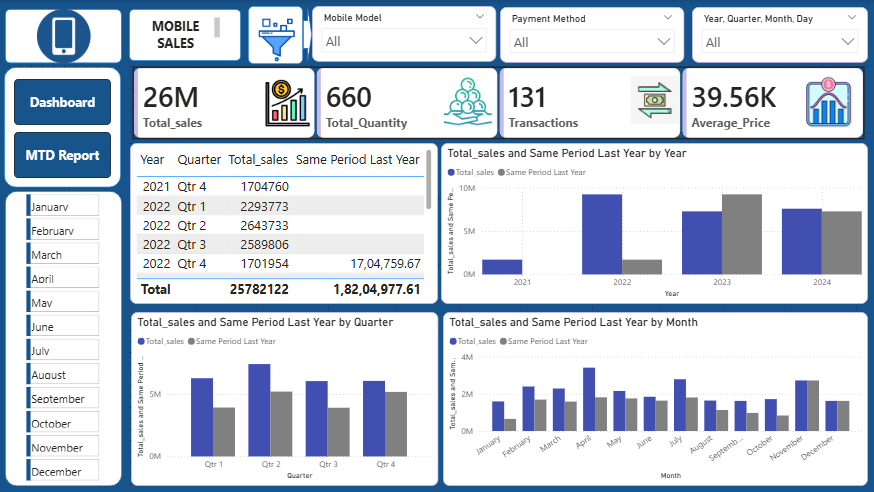

The page's visual inventory and layout, read from the dashboard file:
{"tool":"powerbi","page":{"name":"Same Period Last Year","canvas":[1280,720],"ordinal":2},"visuals":[{"type":"shape","box":[10.1,13.4,169.7,79],"z":0},{"type":"image","box":[11.8,13.4,168,79],"z":1000},{"type":"shape","box":[8.4,97.7,170.1,175.2],"z":2000},{"type":"slicer","fields":{"Values":["Mobile sales Data.Mobile Model"]},"box":[456.7,8.7,267.6,81.5],"z":3000},{"type":"shape","box":[363.6,8.7,80,84.4],"z":4000},{"type":"slicer","fields":{"Values":["Mobile sales Data.Payment Method"]},"box":[730.2,10.2,267.6,81.5],"z":5000},{"type":"cardVisual","fields":{"Data":["Mobile sales Data.Total_sales","Mobile sales Data.Total_Quantity","Mobile sales Data.Transactions","Mobile sales Data.Average_Price"]},"box":[190.3,90.9,1076.2,116.2],"z":6000},{"type":"slicer","fields":{"Values":["Custom Calender.Date.Variation.Date Hierarchy.Year","Custom Calender.Date.Variation.Date Hierarchy.Quarter","Custom Calender.Date.Variation.Date Hierarchy.Month","Custom Calender.Date.Variation.Date Hierarchy.Day"]},"box":[1009.5,10.2,256,81.5],"z":7000},{"type":"image","box":[375.3,114.9,91.6,69.8],"z":8000},{"type":"image","box":[353.5,26.2,103.3,64],"z":9000},{"type":"image","box":[913.5,110.5,84.4,69.8],"z":10000},{"type":"image","box":[1163.6,110.5,90.2,77.1],"z":11000},{"type":"image","box":[644.4,110.5,78.5,74.2],"z":12000},{"type":"shape","box":[443.6,8.7,13.1,82.9],"z":13000},{"type":"shape","box":[190.5,13.1,162.9,75.6],"z":14000},{"type":"textbox","box":[203.6,20.4,123.6,64],"z":15000},{"type":"shape","box":[9.9,277.8,170.1,429.4],"z":16000},{"type":"advancedSlicerVisual","fields":{"Values":["Custom Calender.Date.Variation.Date Hierarchy.Month"]},"box":[36.9,277.8,116.2,429.4],"z":17000},{"type":"tableEx","fields":{"Values":["Custom Calender.Date.Variation.Date Hierarchy.Year","Custom Calender.Date.Variation.Date Hierarchy.Quarter","Mobile sales Data.Total_sales","Mobile sales Data.Same Period Last Year"]},"box":[192,208,448,234.2],"z":18000},{"type":"clusteredColumnChart","fields":{"Category":["Custom Calender.Date.Variation.Date Hierarchy.Year","Custom Calender.Date.Variation.Date Hierarchy.Quarter"],"Y":["Mobile sales Data.Total_sales","Mobile sales Data.Same Period Last Year"]},"box":[644.4,208,621.1,234.2],"z":19000},{"type":"clusteredColumnChart","fields":{"Category":["Custom Calender.Date.Variation.Date Hierarchy.Year","Custom Calender.Date.Variation.Date Hierarchy.Quarter"],"Y":["Mobile sales Data.Total_sales","Mobile sales Data.Same Period Last Year"]},"box":[193.5,453.8,446.5,253.1],"z":20000},{"type":"clusteredColumnChart","fields":{"Category":["Custom Calender.Date.Variation.Date Hierarchy.Year","Custom Calender.Date.Variation.Date Hierarchy.Quarter","Custom Calender.Date.Variation.Date Hierarchy.Month","Custom Calender.Date.Variation.Date Hierarchy.Day","Custom Calender.Date.Variation.Date Hierarchy.Year","Custom Calender.Date.Variation.Date Hierarchy.Quarter"],"Y":["Mobile sales Data.Total_sales","Mobile sales Data.Same Period Last Year"]},"box":[647.3,453.8,618.2,253.1],"z":21000},{"type":"pageNavigator","box":[23.3,114.9,141.1,145.5],"z":22000}]}

Visuals, with their boxes in screenshot pixels (x1, y1, x2, y2), scaled from the page's 1280x720 canvas onto the 874x492 screenshot:
shape: 7:9:123:63
image: 8:9:123:63
shape: 6:67:122:186
slicer - Mobile sales Data.Mobile Model: 312:6:495:62
shape: 248:6:303:64
slicer - Mobile sales Data.Payment Method: 499:7:681:63
cardVisual - Mobile sales Data.Total_sales x Mobile sales Data.Total_Quantity: 130:62:865:142
slicer - Custom Calender.Date.Variation.Date Hierarchy.Year x Custom Calender.Date.Variation.Date Hierarchy.Quarter: 689:7:864:63
image: 256:79:319:126
image: 241:18:312:62
image: 624:76:681:123
image: 795:76:856:128
image: 440:76:494:126
shape: 303:6:312:63
shape: 130:9:241:61
textbox: 139:14:223:58
shape: 7:190:123:483
advancedSlicerVisual - Custom Calender.Date.Variation.Date Hierarchy.Month: 25:190:105:483
tableEx - Custom Calender.Date.Variation.Date Hierarchy.Year x Custom Calender.Date.Variation.Date Hierarchy.Quarter: 131:142:437:302
clusteredColumnChart - Custom Calender.Date.Variation.Date Hierarchy.Year x Custom Calender.Date.Variation.Date Hierarchy.Quarter: 440:142:864:302
clusteredColumnChart - Custom Calender.Date.Variation.Date Hierarchy.Year x Custom Calender.Date.Variation.Date Hierarchy.Quarter: 132:310:437:483
clusteredColumnChart - Custom Calender.Date.Variation.Date Hierarchy.Year x Custom Calender.Date.Variation.Date Hierarchy.Quarter: 442:310:864:483
pageNavigator: 16:79:112:178
